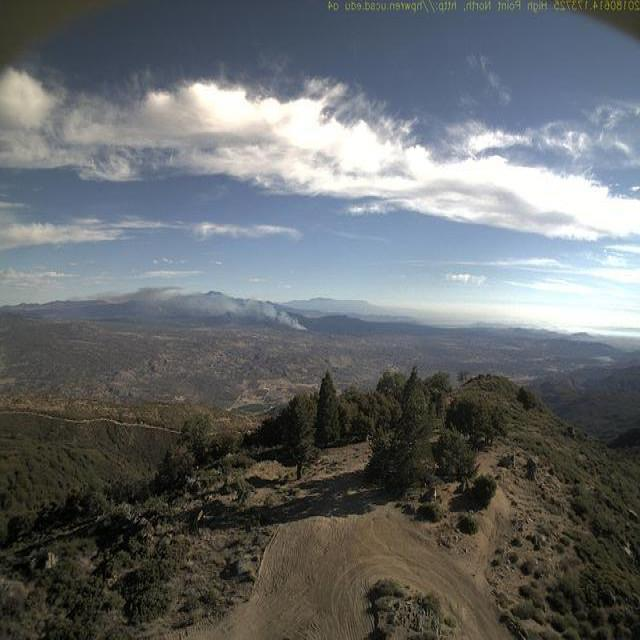smoke: (158, 287, 311, 333)
